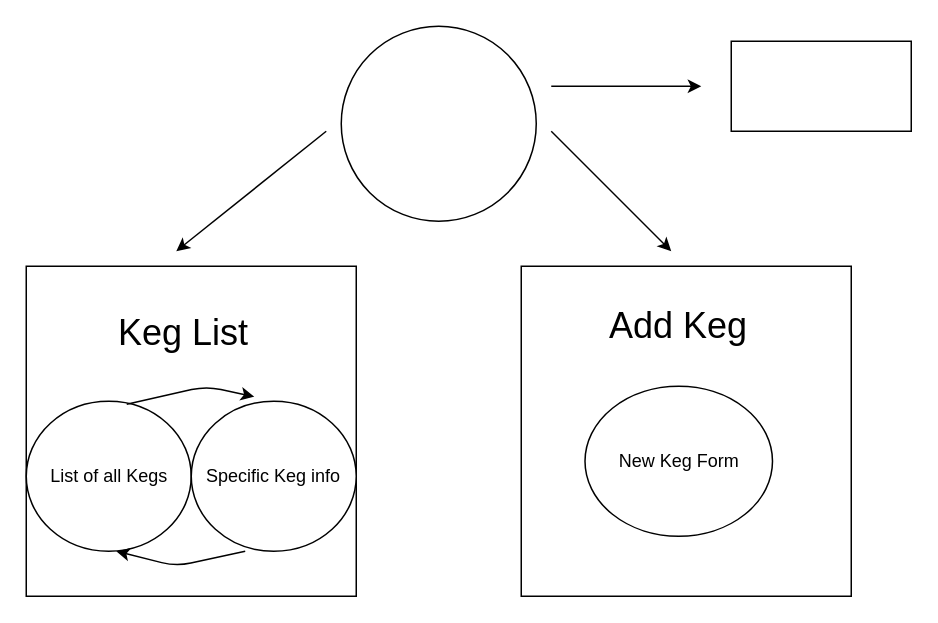
This 938x623 diagram has some shape labels left out. Each missing label, with the centre of its shape:
"App" belongs at (438,123).
"Navbar" belongs at (820,85).
